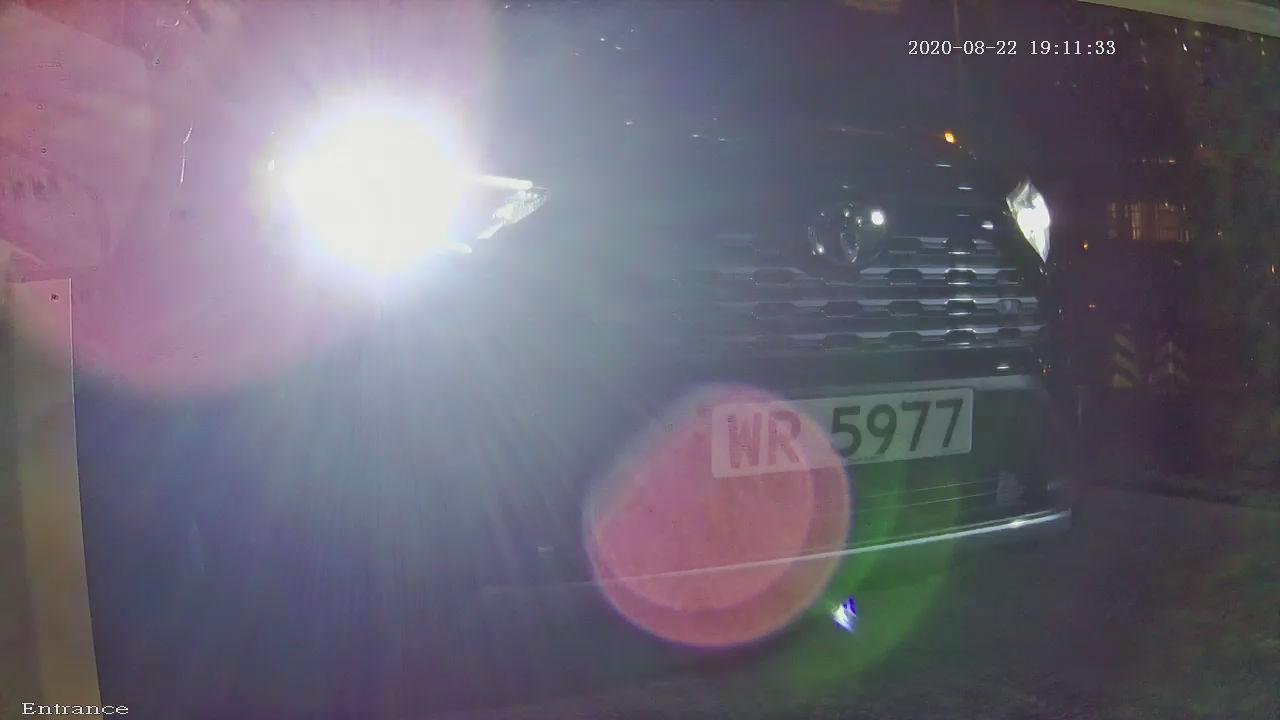Car: (1, 46, 1218, 663)
License Plate: (658, 348, 1011, 525)
